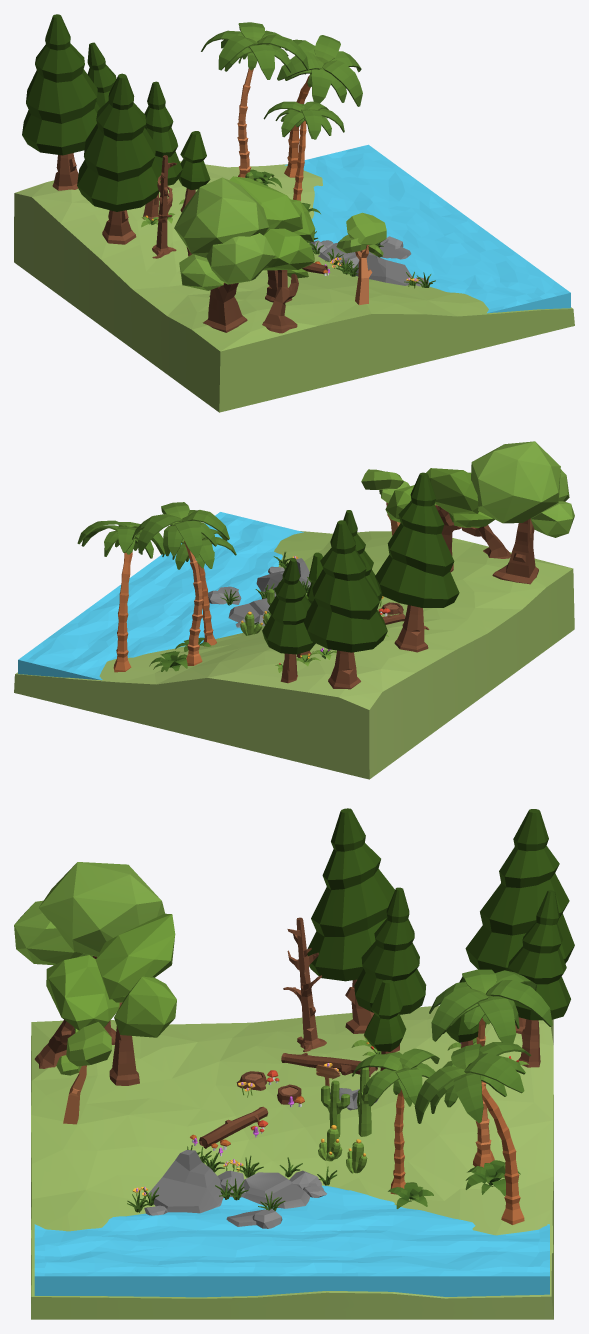
The model's file is Low Poly - Nature Pack - Landscape.fbx.
3 views of the same model, one above another, from view 1: azimuth 30°, elevation 25°; view 2: azimuth 150°, elevation 25°; view 3: azimuth 270°, elevation 25° (orthographic). The views are drawn at different scales.
Visible parts, largest first — view 1: landscape, hills, tree oak 3, tree pine 1.002, tree pine 1.001, tree palm 1, tree palm 3, tree oak 2, tree oak 1, tree pine 2, tree palm 2, tree 2 (+4 smaller); view 2: landscape, hills, tree oak 3, tree pine 1.002, tree pine 1.001, tree palm 1, tree pine 2.001, tree oak 1, tree palm 3, tree palm 2, tree 2, tree pine 2 (+4 smaller); view 3: landscape, hills, tree oak 3, tree pine 1.002, tree oak 1, tree pine 1.001, tree palm 3, tree palm 1, tree pine 2.001, tree pine 2, tree oak 2, tree palm 2 (+11 smaller).
Boxes of the visible parts, x1,y1,x2,y2 form: landscape: (14, 161, 574, 412); hills: (285, 144, 570, 313); tree oak 3: (174, 177, 275, 332); tree pine 1.002: (77, 73, 161, 244); tree pine 1.001: (22, 14, 99, 190); tree palm 1: (201, 22, 308, 177); tree palm 3: (277, 35, 362, 177); tree oak 2: (262, 228, 314, 333); tree oak 1: (229, 176, 315, 302); tree pine 2: (142, 81, 182, 221); tree palm 2: (263, 101, 344, 200); tree 2: (336, 212, 386, 305); landscape: (14, 531, 574, 779); hills: (18, 512, 303, 680); tree oak 3: (471, 441, 574, 584); tree pine 1.002: (375, 472, 459, 652); tree pine 1.001: (303, 520, 387, 689); tree palm 1: (132, 502, 229, 665); tree pine 2.001: (262, 557, 315, 683); tree oak 1: (385, 468, 494, 572); tree palm 3: (77, 520, 165, 672); tree palm 2: (162, 528, 236, 646); tree 2: (361, 469, 409, 535); tree pine 2: (343, 510, 382, 601); landscape: (31, 1005, 553, 1319); hills: (34, 1185, 549, 1297); tree oak 3: (14, 862, 164, 1044); tree pine 1.002: (307, 808, 394, 1033); tree oak 1: (95, 913, 176, 1085); tree pine 1.001: (465, 809, 574, 1034); tree palm 3: (414, 1042, 530, 1224); tree palm 1: (429, 969, 552, 1167); tree pine 2.001: (508, 890, 570, 1067); tree pine 2: (354, 887, 426, 1052); tree oak 2: (34, 955, 119, 1068); tree palm 2: (352, 1048, 439, 1194).
Size of what is drawn, in the model's own units: 10503 by 6540 by 10727.
2 materials, 1 textured.
